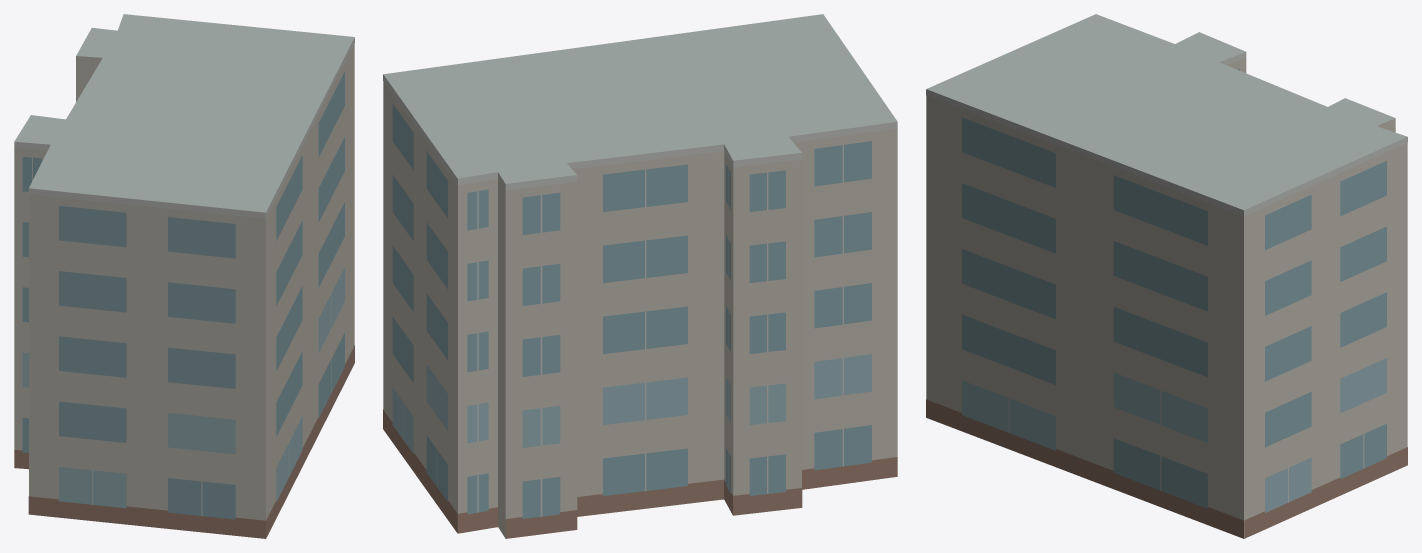
File: survey-upis-33018958.glb
3 renders of one model, left to right at view 1: azimuth 30°, elevation 25°; view 2: azimuth 150°, elevation 25°; view 3: azimuth 270°, elevation 25°, orthographic. The views are drawn at different scales.
Visible parts, largest first — view 1: survey-upis-33018958.tmp; view 2: survey-upis-33018958.tmp; view 3: survey-upis-33018958.tmp.
Boxes of the visible parts, bbox=[...] form: survey-upis-33018958.tmp: bbox=[14, 14, 354, 538]; survey-upis-33018958.tmp: bbox=[383, 14, 897, 538]; survey-upis-33018958.tmp: bbox=[926, 14, 1407, 538].
Size of the model in its own units: 16.79 by 13.1 by 17.41.
